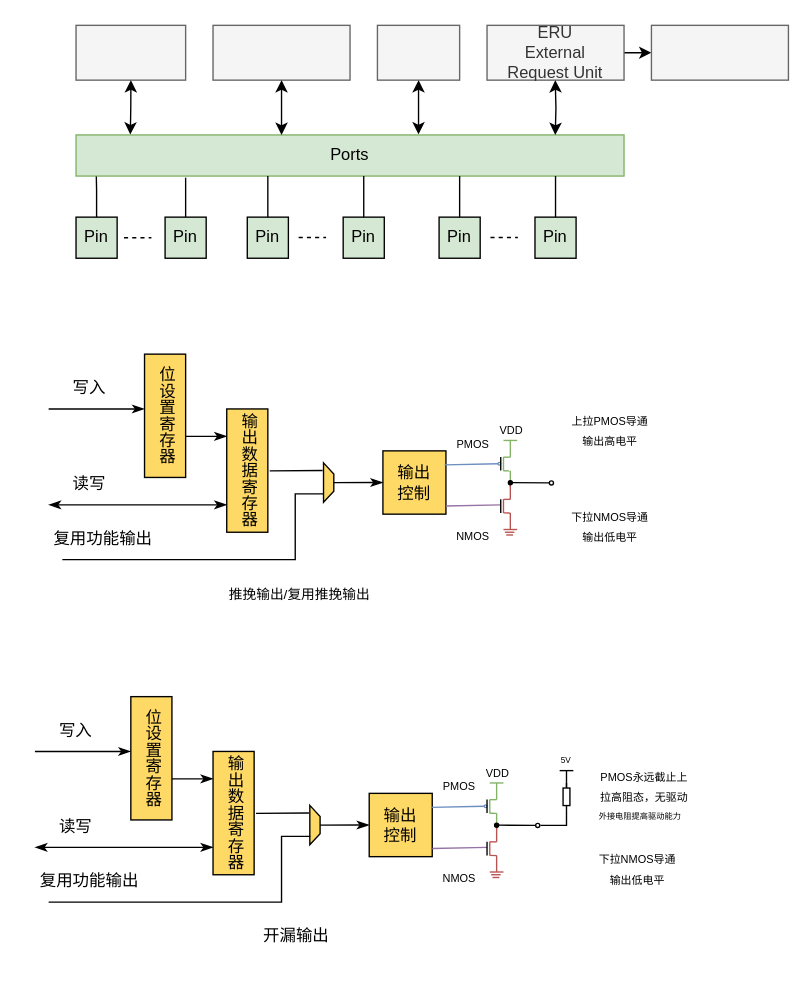
The diagram is 812 pixels wide and 981 high, and some of its shapes have lost their labels. Each missing label, with the centre of its shape:
Communication Peripherals: pixel 281 52
CPUx DMA: pixel 418 52
IR Interrupt Router: pixel 719 52
Timer: pixel 130 52
